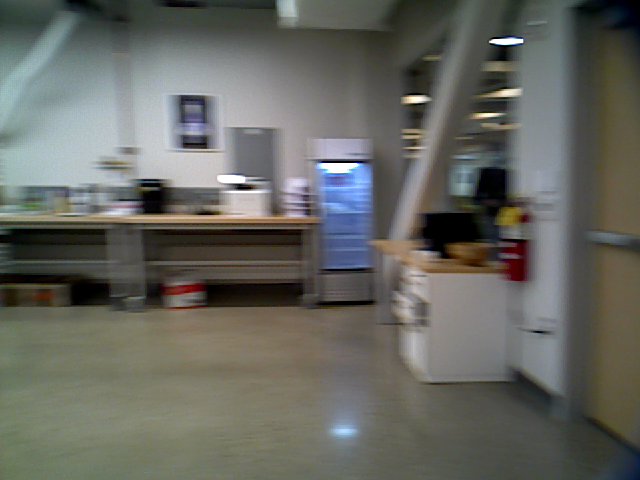painting2: (165, 91, 221, 155)
